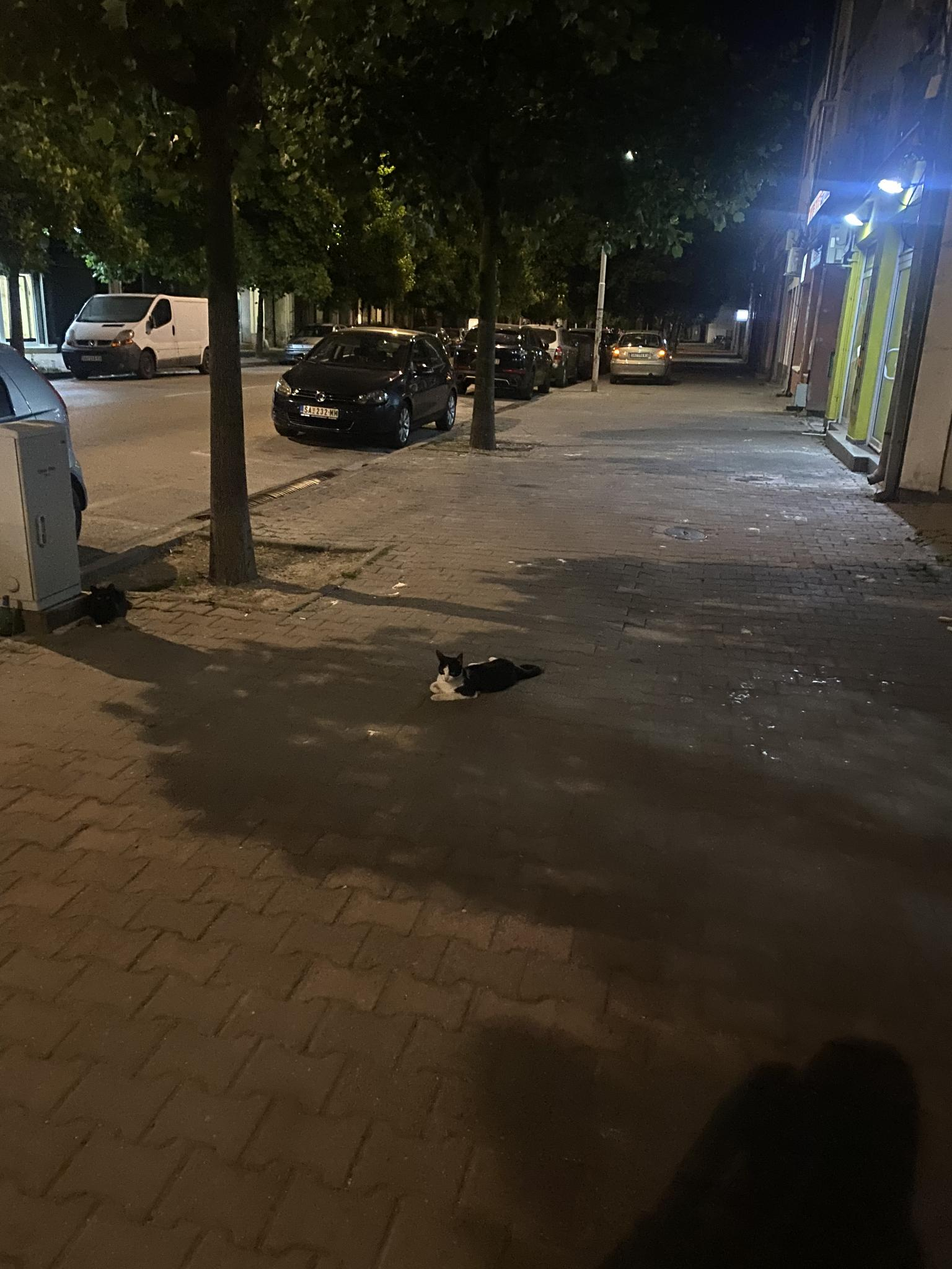macka: (429, 649, 544, 703)
